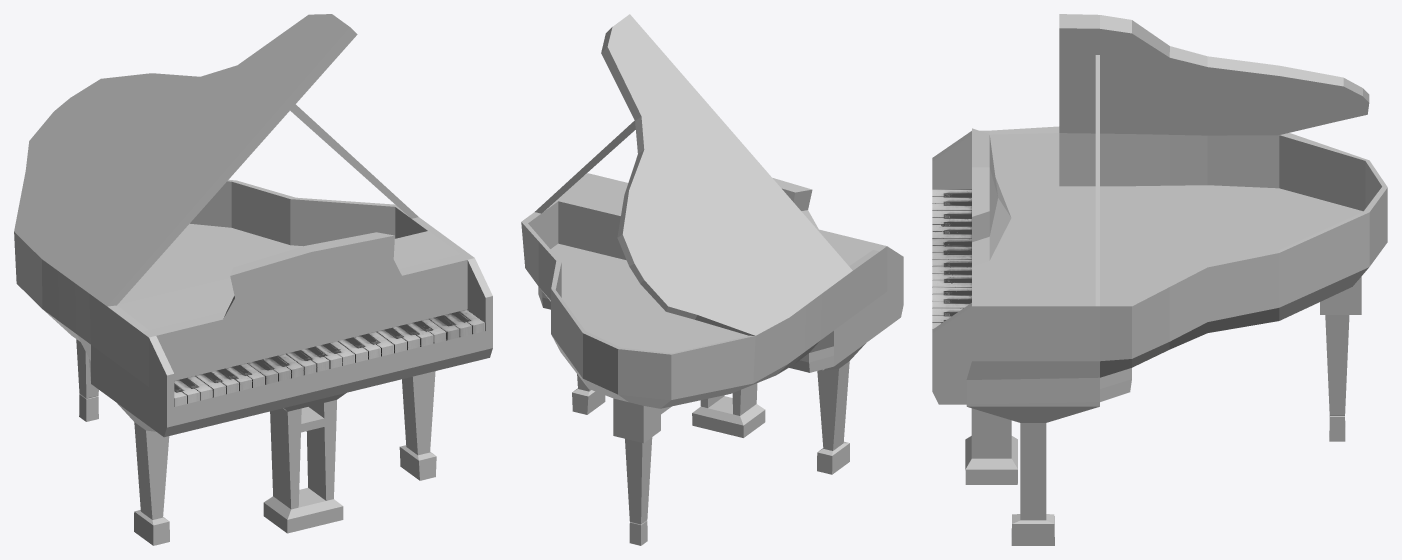
File: Piano.fbx
3 views of the same model, side by side, from view 1: azimuth 30°, elevation 25°; view 2: azimuth 150°, elevation 25°; view 3: azimuth 270°, elevation 25° (orthographic). The views are drawn at different scales.
Visible parts, largest first — view 1: Cube; view 2: Cube; view 3: Cube.
Boxes of the visible parts, x1,y1,x2,y2 form: Cube: (14,14,492,545); Cube: (521,14,903,545); Cube: (932,14,1387,545).
Size of the model in its own units: 151 by 197 by 164.
